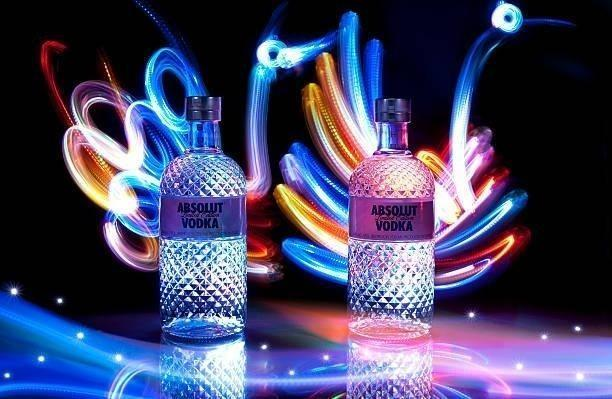bottle-glass: (155, 92, 250, 342), (344, 94, 438, 341)
